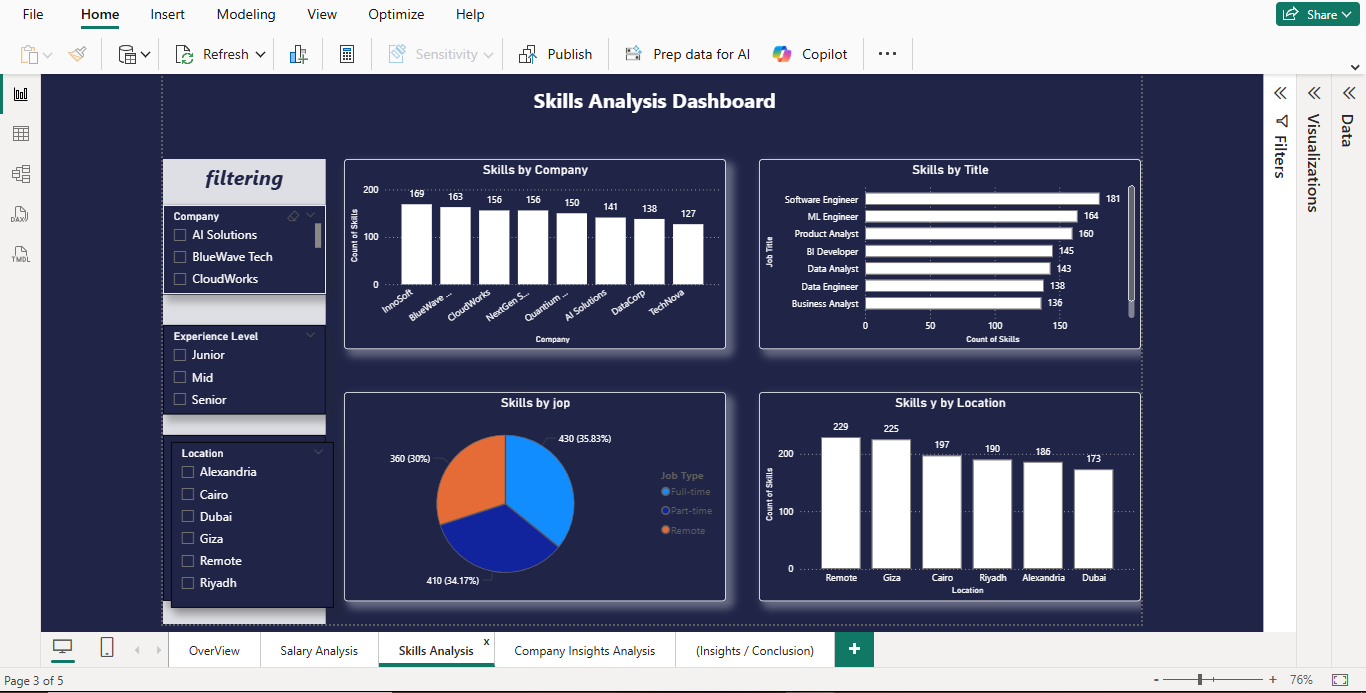

The dashboard page shown, as its layout file describes it:
{"tool":"powerbi","page":{"name":"Skills Analysis","canvas":[1280,720],"ordinal":2},"visuals":[{"type":"textbox","box":[0,10.1,1280.2,56.2],"z":0},{"type":"columnChart","title":"Skills y by Location","fields":{"Y":["CountNonNull(Job Market Data.Skills)"],"Category":["Job Market Data.Location"]},"box":[780.5,416.2,499.7,273.6],"z":1000},{"type":"clusteredBarChart","title":"Skills  by Title","fields":{"Category":["Job Market Data.Job Title"],"Y":["CountNonNull(Job Market Data.Skills)"]},"box":[780.5,110.9,499.7,249.1],"z":2000},{"type":"pieChart","title":"Skills by jop ","fields":{"Category":["Job Market Data.Job Type"],"Y":["CountNonNull(Job Market Data.Skills)"]},"box":[237.6,416.2,499.7,273.6],"z":3000},{"type":"clusteredColumnChart","title":"Skills by Company","fields":{"Category":["Job Market Data.Company"],"Y":["CountNonNull(Job Market Data.Skills)"]},"box":[237.6,110.9,499.7,249.1],"z":4000},{"type":"textbox","box":[0,110.9,213.1,609.1],"z":5000},{"type":"slicer","fields":{"Values":["Job Market Data.Experience Level"]},"box":[0,328.3,213.1,116.6],"z":6000},{"type":"slicer","fields":{"Values":["Job Market Data.Skills"]},"box":[0,472.3,213.1,217.4],"z":7000},{"type":"slicer","fields":{"Values":["Job Market Data.Company"]},"box":[0,171.4,213.1,116.6],"z":8000},{"type":"slicer","fields":{"Values":["Job Market Data.Location"]},"box":[10,482.3,213.1,217.4],"z":9000}]}

Visuals, with their boxes on the page's 1280x720 design canvas (x1, y1, x2, y2). These are canvas units, not pixel positions in the 1366x693 screenshot, which may show the page scaled, cropped or inside an application window:
textbox: {"left": 0, "top": 10, "right": 1280, "bottom": 66}
"Skills y by Location" columnChart: {"left": 780, "top": 416, "right": 1280, "bottom": 690}
"Skills  by Title" clusteredBarChart: {"left": 780, "top": 111, "right": 1280, "bottom": 360}
"Skills by jop " pieChart: {"left": 238, "top": 416, "right": 737, "bottom": 690}
"Skills by Company" clusteredColumnChart: {"left": 238, "top": 111, "right": 737, "bottom": 360}
textbox: {"left": 0, "top": 111, "right": 213, "bottom": 720}
slicer - Job Market Data.Experience Level: {"left": 0, "top": 328, "right": 213, "bottom": 445}
slicer - Job Market Data.Skills: {"left": 0, "top": 472, "right": 213, "bottom": 690}
slicer - Job Market Data.Company: {"left": 0, "top": 171, "right": 213, "bottom": 288}
slicer - Job Market Data.Location: {"left": 10, "top": 482, "right": 223, "bottom": 700}
